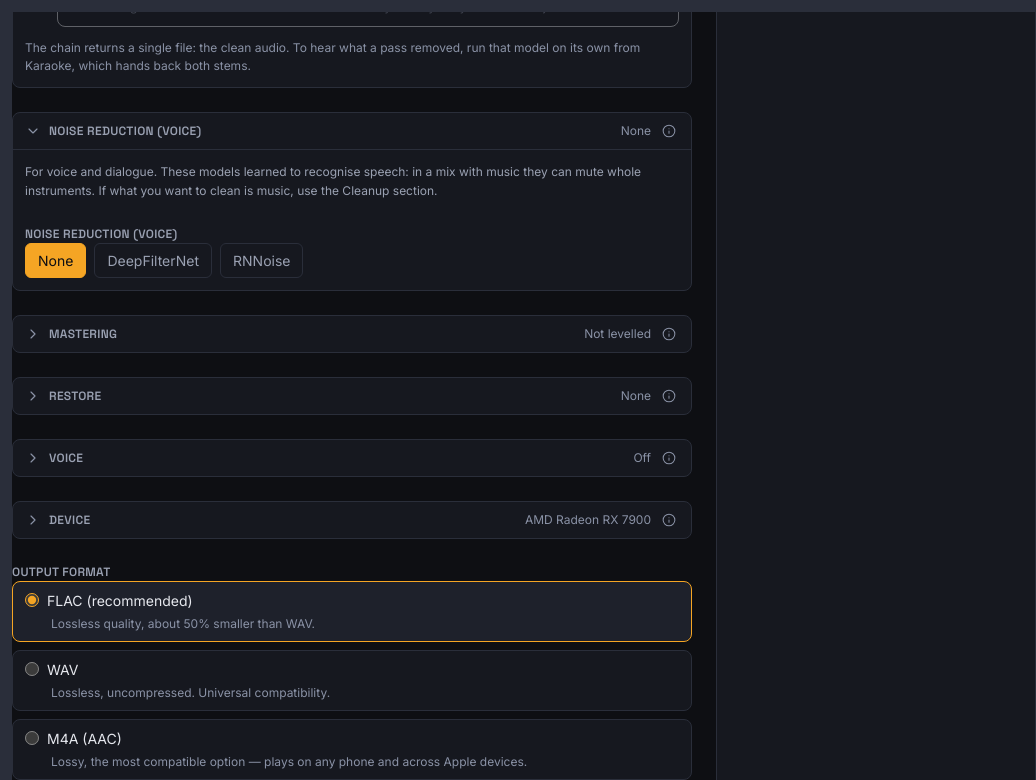
it: AudioPanel › offers AudioSR as a restore mode and shows its diffusion cost hint
(page scrolled)
Click the button "Restore None".
click(75, 396)  # box x1=25 y1=386 x2=651 y2=404
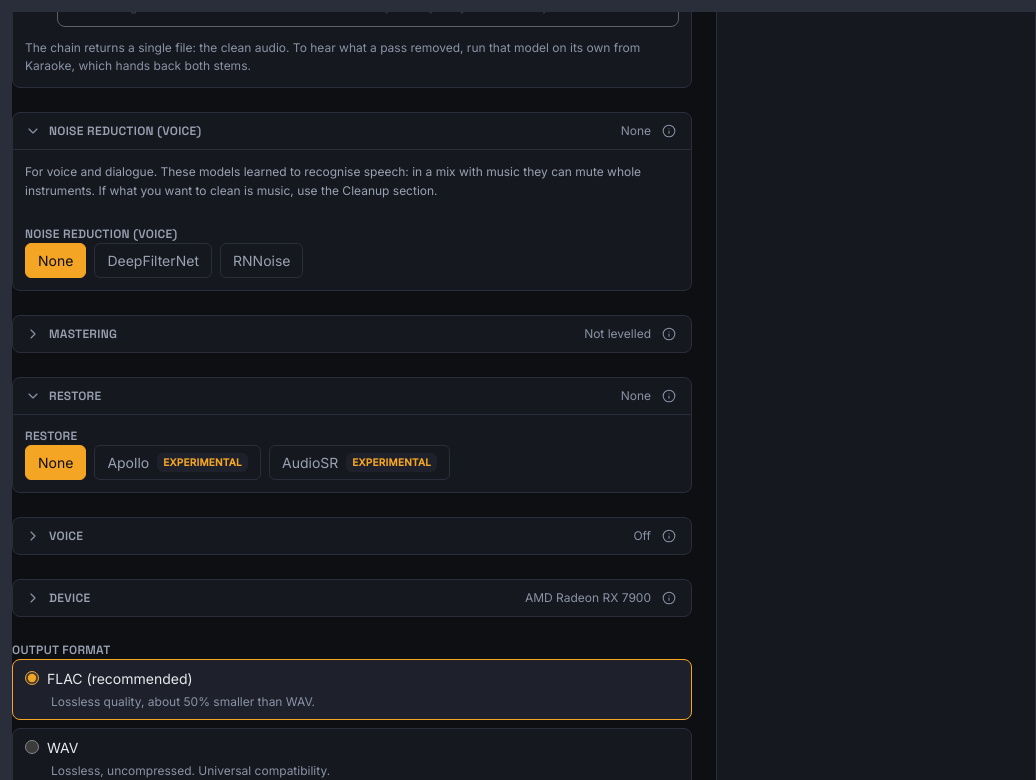
Click the button "AudioSR Experimental".
click(360, 462)  # box x1=269 y1=444 x2=450 y2=480
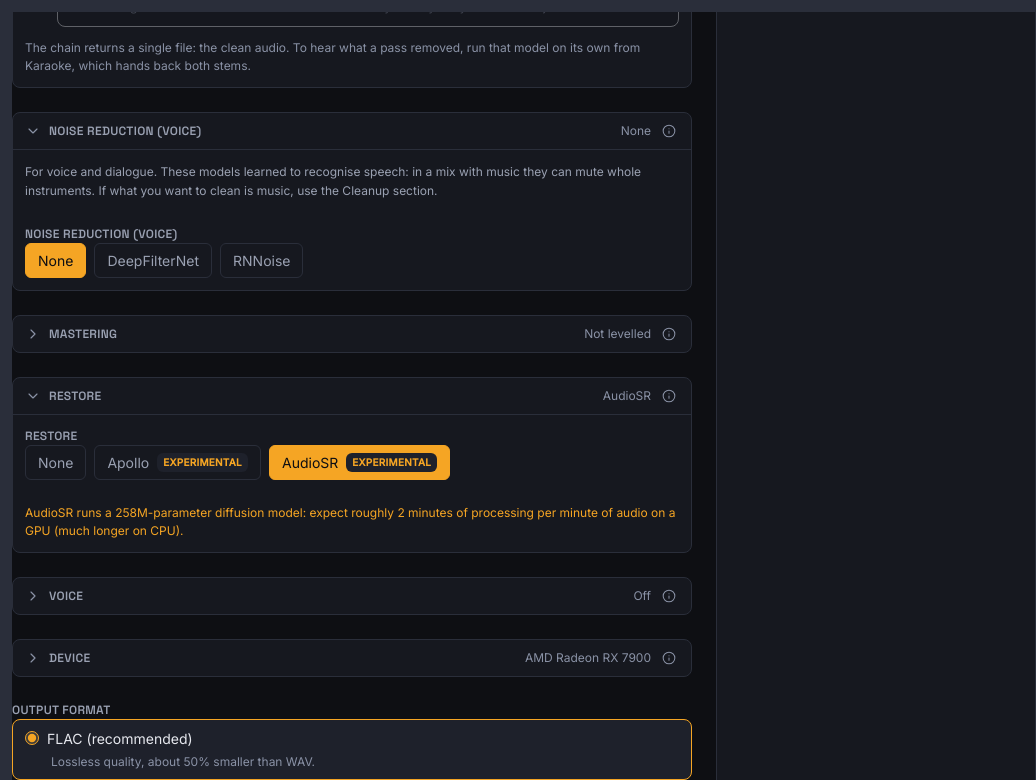
Expected: the text "per minute of audio" is shown, x1=25 y1=504 x2=675 y2=538
